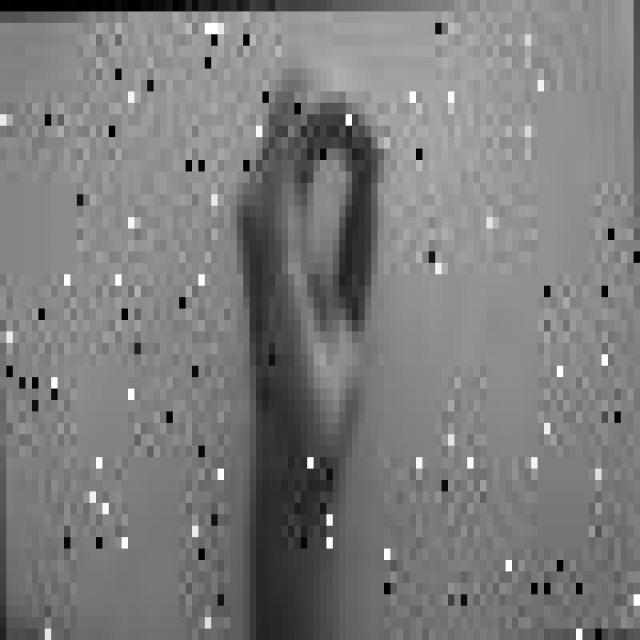O: (218, 46, 396, 526)
